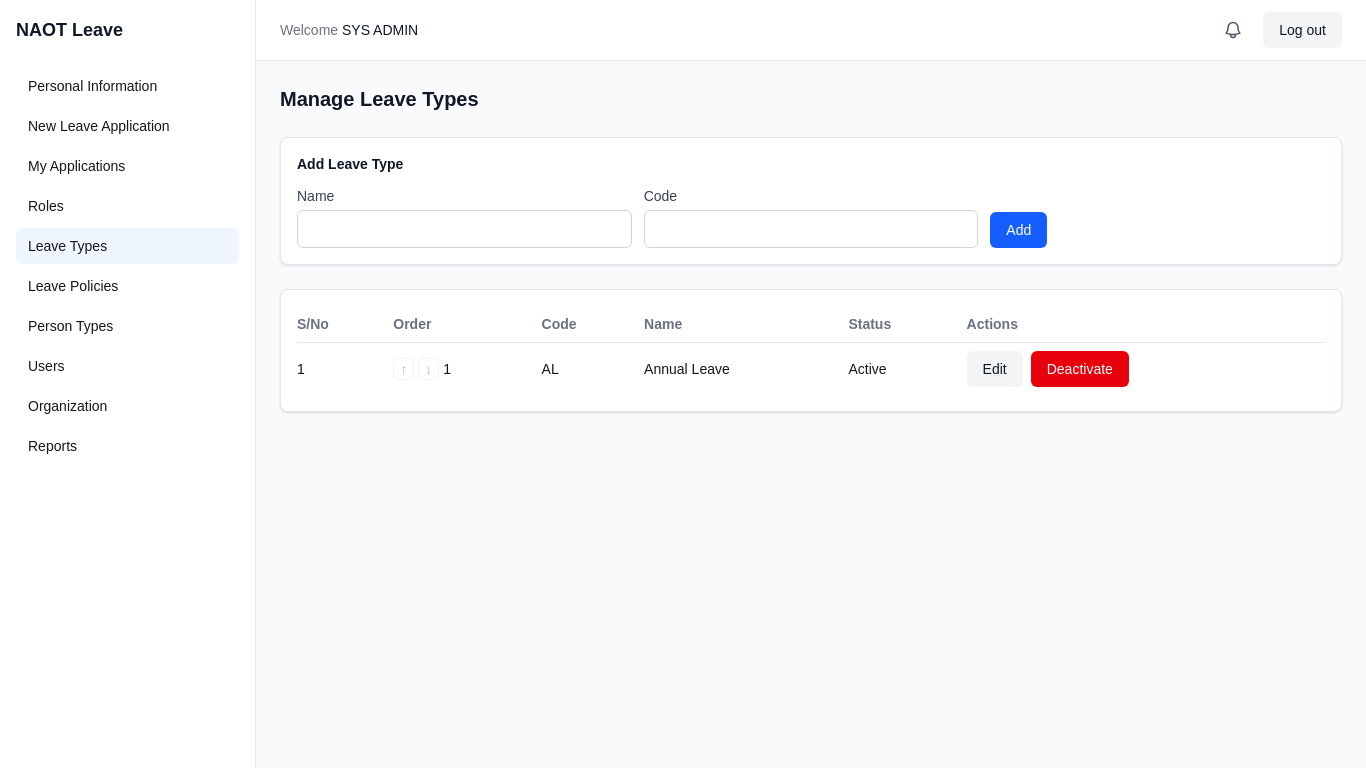
Test case: AdminLeaveTypesPage › Cancel discards edits without saving
Check: the text "Annual Leave" is shown, box [644,342,848,395]
Step 1. Click the button "Edit" → x=995, y=369, box [967,351,1023,387]
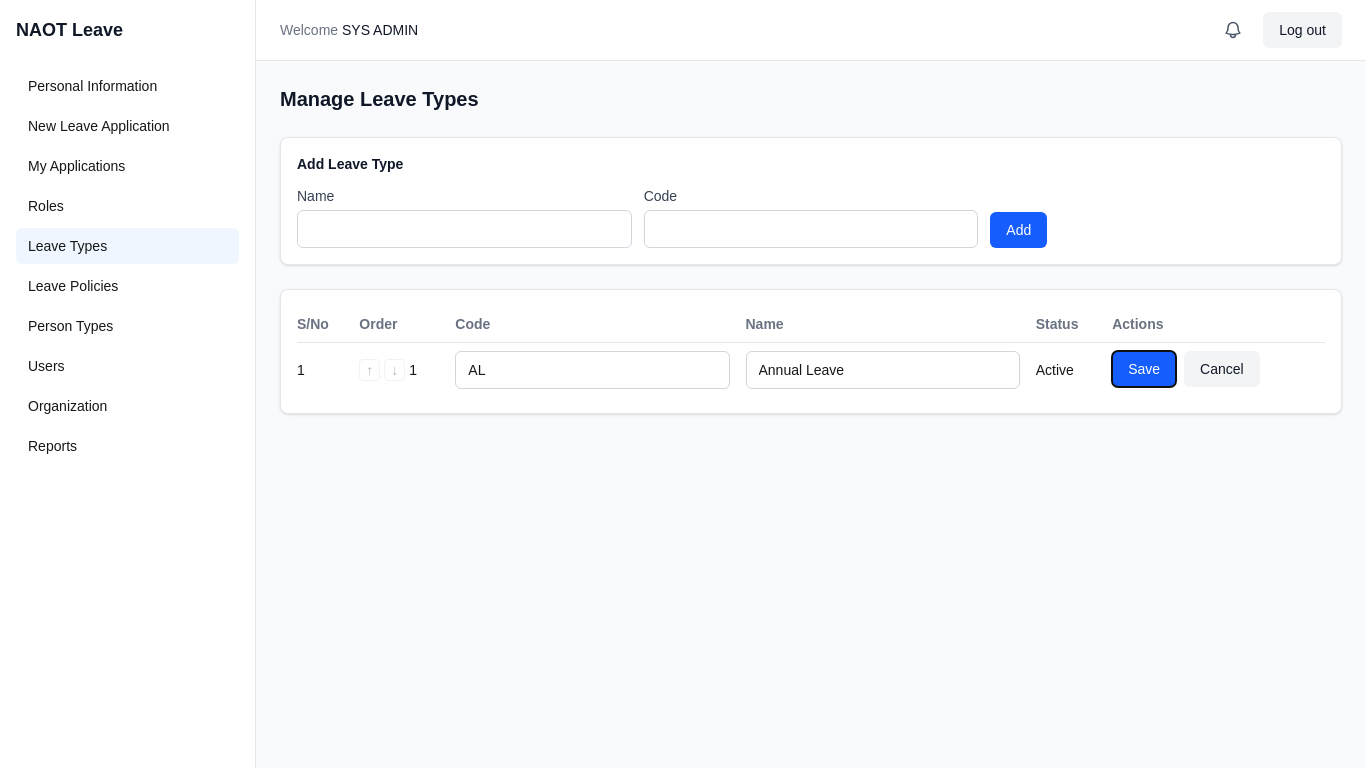
Step 2. Type " extra" into the field named "Edit name" → x=883, y=370, box [746,351,1020,389]
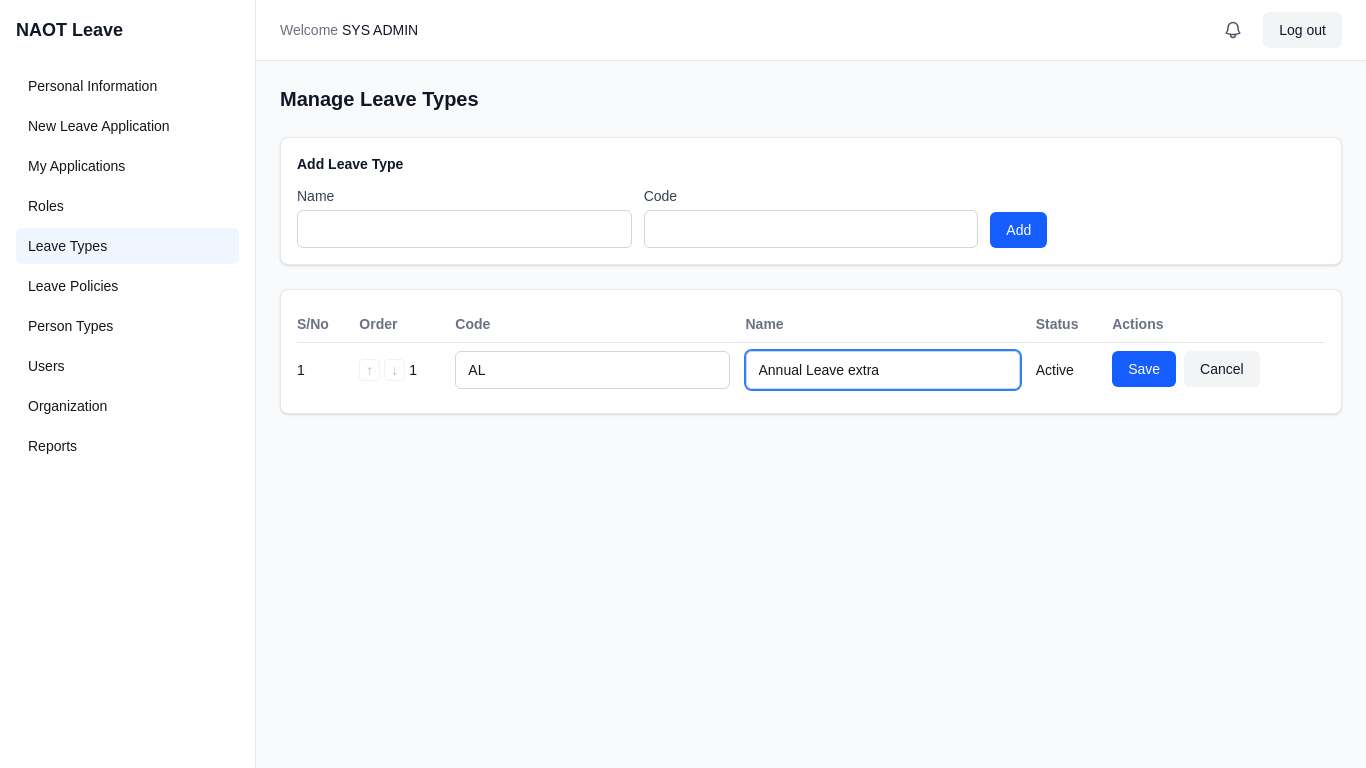
Step 3. Click the button "Cancel" → x=1222, y=369, box [1184,351,1260,387]
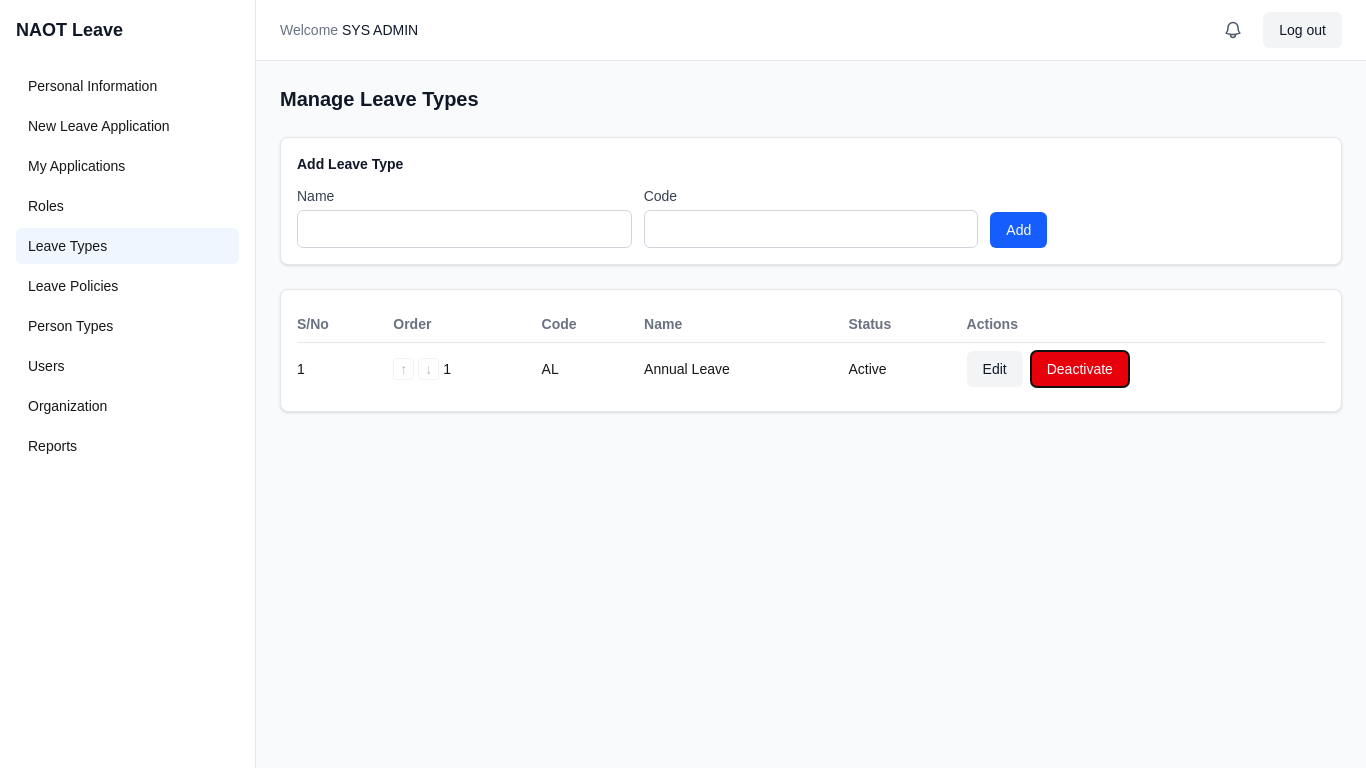
Check: the text "Annual Leave" is shown, box [644,342,848,395]
